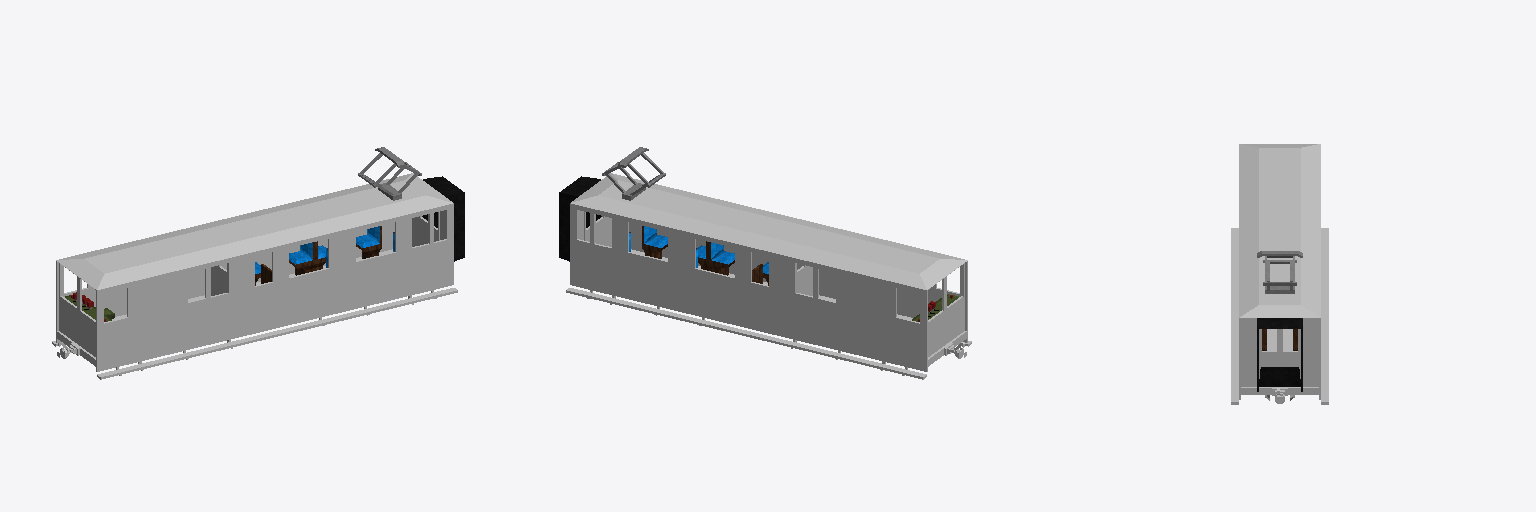
3 renders of one model, left to right at view 1: azimuth 30°, elevation 25°; view 2: azimuth 150°, elevation 25°; view 3: azimuth 270°, elevation 25°, orthographic.
Parts seen in each view (by area): view 1: SHELL_WOOD_ext, SHELL_WOOD_roof, SHELL_WOOD_int, FRAME, corridor_rear, DOOR_13_EXTERNAL, DOOR_5_EXTERNAL, DOOR_7_EXTERNAL, DOOR_11_EXTERNAL, bench.002, bench; view 2: SHELL_WOOD_ext, SHELL_WOOD_roof, SHELL_WOOD_int, FRAME, corridor_rear, DOOR_14_EXTERNAL, DOOR_6_EXTERNAL, DOOR_8_EXTERNAL, DOOR_12_EXTERNAL, bench.003, bench.001; view 3: SHELL_WOOD_roof, SHELL_WOOD_ext, COUPLED_REAR_3, corridor_rear.
Boxes of the visible parts, box(x1,y1,x2,y2) form: SHELL_WOOD_ext: box(52, 203, 457, 379); SHELL_WOOD_roof: box(56, 173, 452, 289); SHELL_WOOD_int: box(60, 210, 446, 323); FRAME: box(56, 278, 453, 371); corridor_rear: box(422, 176, 464, 261); DOOR_13_EXTERNAL: box(186, 266, 208, 333); DOOR_5_EXTERNAL: box(253, 249, 275, 317); DOOR_7_EXTERNAL: box(410, 211, 431, 278); DOOR_11_EXTERNAL: box(209, 260, 230, 327); bench.002: box(289, 241, 326, 275); bench: box(356, 226, 381, 258); SHELL_WOOD_ext: box(566, 203, 971, 379); SHELL_WOOD_roof: box(571, 173, 967, 289); SHELL_WOOD_int: box(577, 210, 963, 323); FRAME: box(570, 278, 967, 371); corridor_rear: box(559, 176, 601, 261); DOOR_14_EXTERNAL: box(815, 266, 837, 333); DOOR_6_EXTERNAL: box(748, 249, 770, 317); DOOR_8_EXTERNAL: box(592, 211, 613, 278); DOOR_12_EXTERNAL: box(793, 260, 814, 327); bench.003: box(697, 241, 734, 275); bench.001: box(642, 226, 667, 258); SHELL_WOOD_roof: box(1239, 144, 1320, 317); SHELL_WOOD_ext: box(1231, 228, 1328, 404); COUPLED_REAR_3: box(1259, 367, 1300, 386); corridor_rear: box(1257, 318, 1302, 391).
Bounding box in the file's own units: 11.06 × 3.69 × 2.38.
Materials: 8 (4 with a texture image).